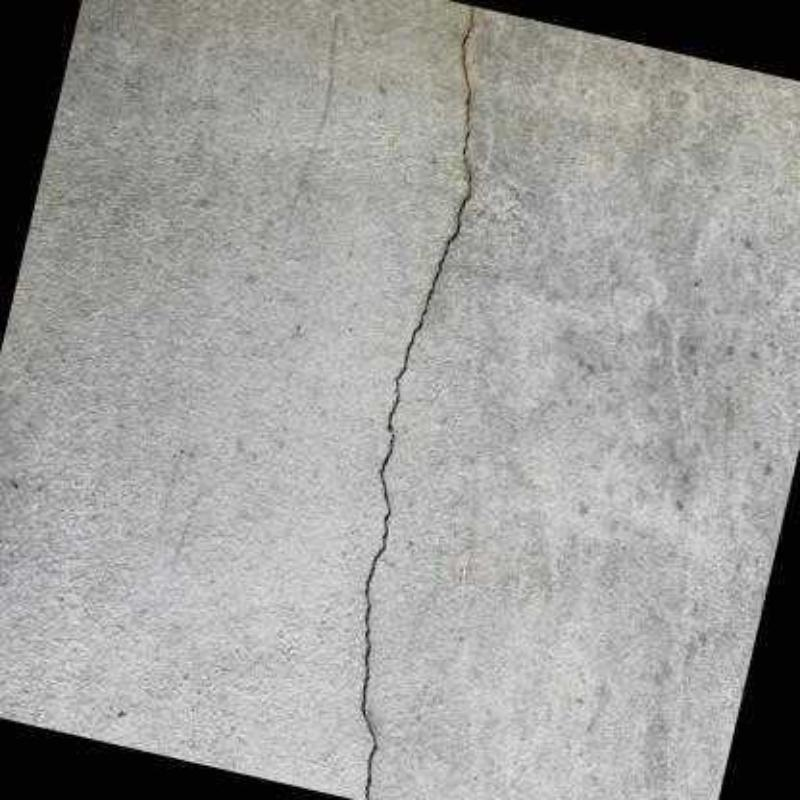pothole: (359, 6, 476, 800)
